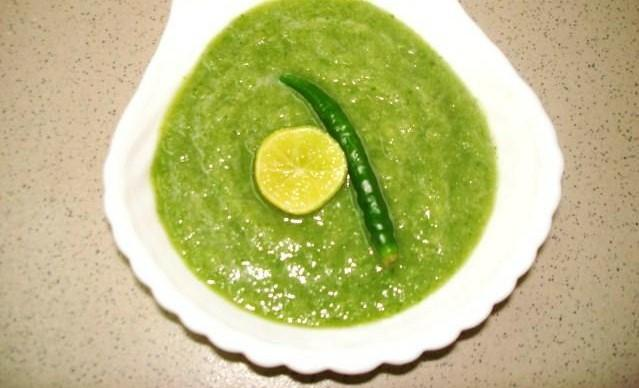GreenChutney: (152, 0, 497, 327)
